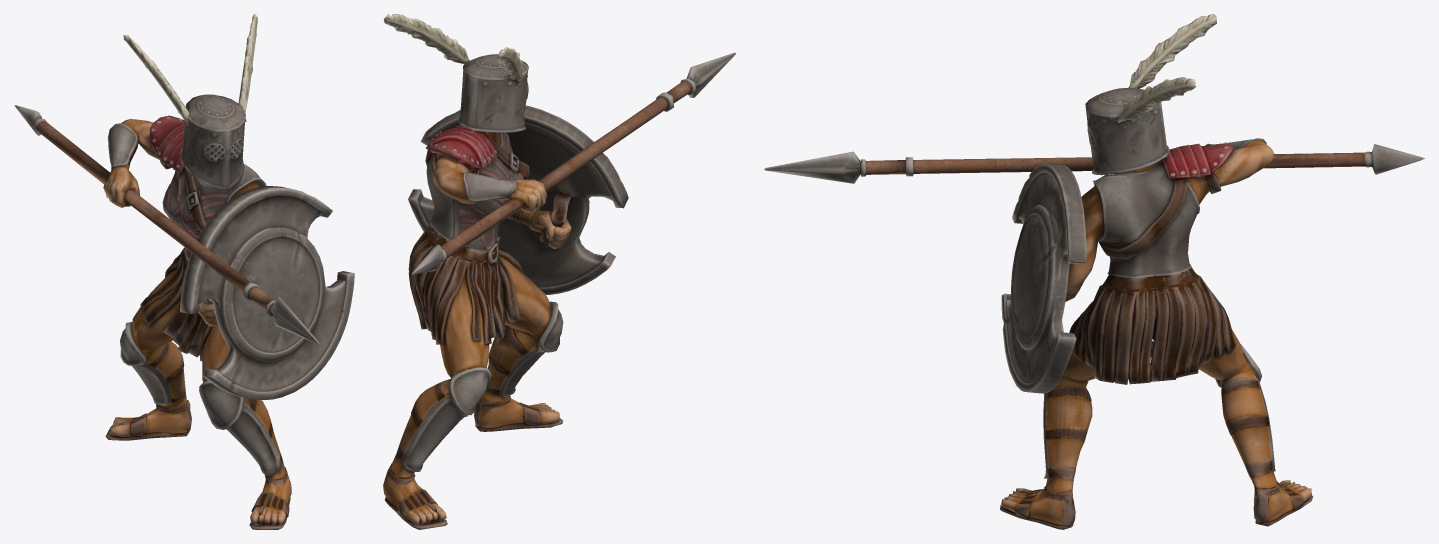
Rendered from MZ4250 - Gladiator Female 01.glb.
The picture shows the model from 3 angles, left to right: view 1: azimuth 30°, elevation 25°; view 2: azimuth 150°, elevation 25°; view 3: azimuth 270°, elevation 25°; orthographic projection. The views are drawn at different scales.
Parts seen in each view (by area): view 1: GladiatorFemale; view 2: GladiatorFemale; view 3: GladiatorFemale.
Part boxes in pixels (x1=…): GladiatorFemale: x1=14, y1=14, x2=354, y2=529; GladiatorFemale: x1=383, y1=14, x2=735, y2=529; GladiatorFemale: x1=764, y1=14, x2=1424, y2=529.
Size of the model in its own units: 0.4645 by 1.03 by 1.31.
Materials: 1 (1 with a texture image).
